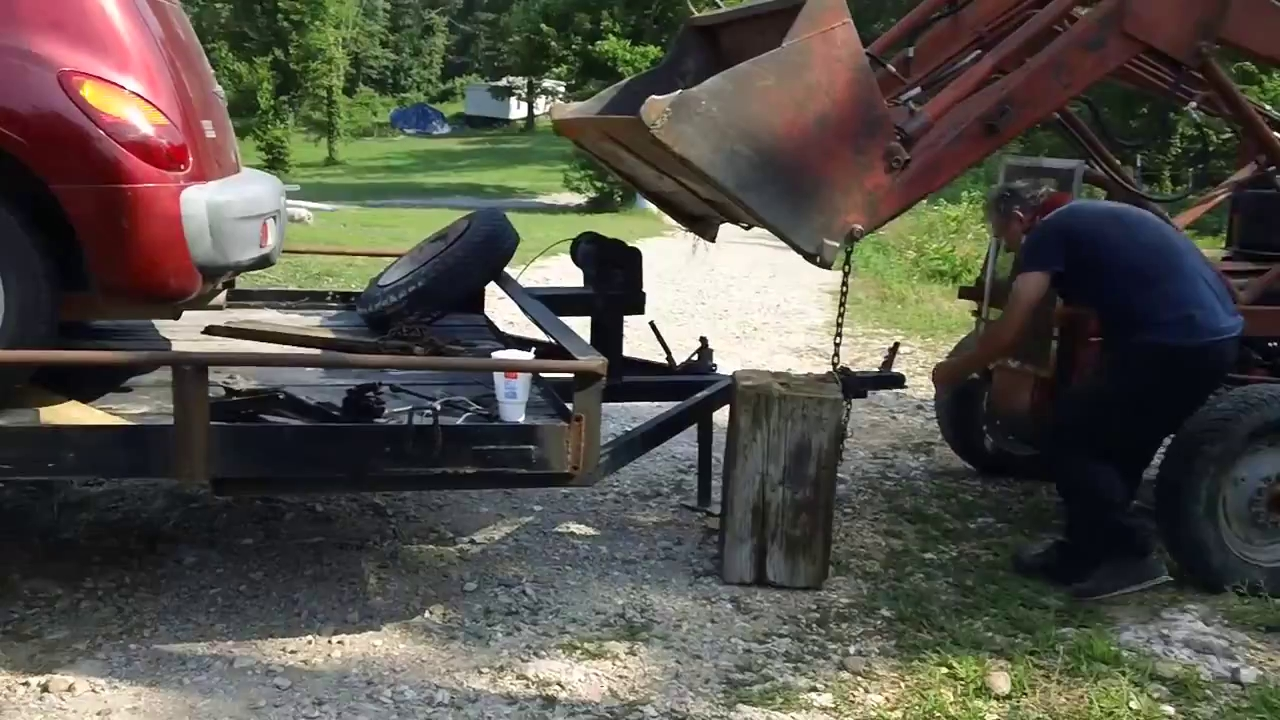person: (932, 179, 1243, 601)
